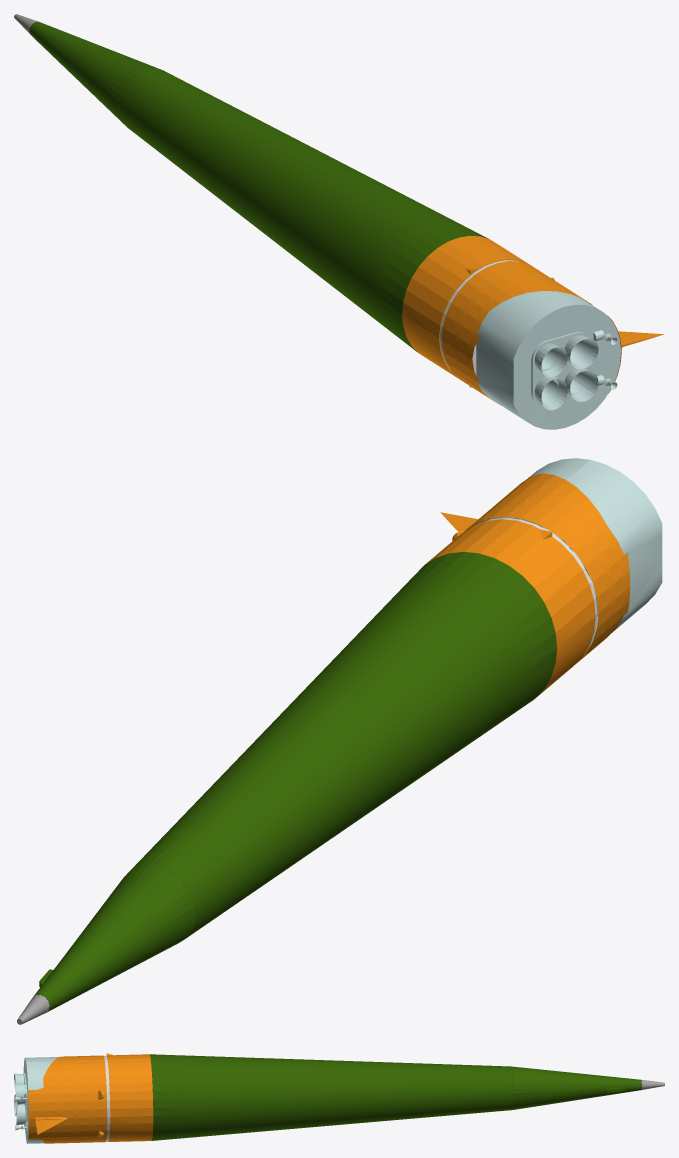
File: r7blockb.obj
3 renders of one model, top to bottom at view 1: azimuth 30°, elevation 25°; view 2: azimuth 150°, elevation 25°; view 3: azimuth 270°, elevation 25°, orthographic. The views are drawn at different scales.
Parts seen in each view (by area): view 1: group13, group1, group17, group15, group12, group6, group8, group7, group10, group9; view 2: group13, group12, group17, group15, group1; view 3: group13, group15, group17, group12, group1, group0, group22, group8, group7, group11.
Boxes of the visible parts, x1,y1,x2,y2 form: group13: (119, 68, 488, 352); group1: (476, 291, 621, 429); group17: (402, 235, 531, 377); group15: (441, 261, 621, 404); group12: (29, 21, 161, 123); group6: (531, 332, 591, 405); group8: (564, 368, 598, 401); group7: (564, 335, 598, 369); group10: (534, 376, 567, 410); group9: (534, 343, 567, 377); group13: (129, 552, 556, 938); group12: (33, 865, 195, 1012); group17: (425, 519, 595, 697); group15: (465, 473, 630, 664); group1: (483, 458, 662, 646); group13: (149, 1054, 512, 1140); group15: (28, 1055, 107, 1143); group17: (106, 1054, 153, 1141); group12: (511, 1066, 641, 1109); group1: (23, 1057, 58, 1143); group0: (104, 1056, 110, 1141); group22: (35, 1119, 64, 1134); group8: (16, 1104, 25, 1125); group7: (16, 1083, 25, 1104); group11: (641, 1080, 664, 1089).
Size of the model in its own units: 4.07 by 2.68 by 20.1.
